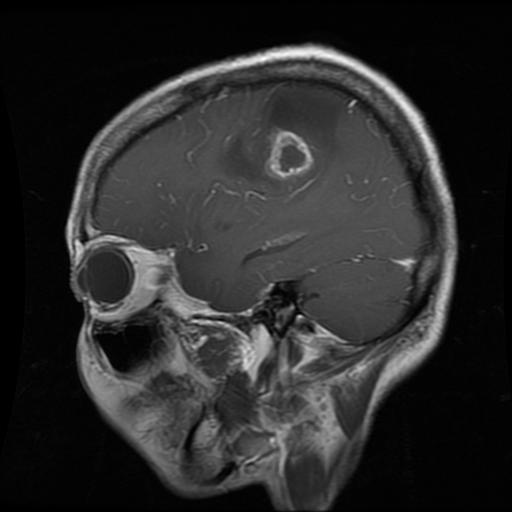Gliomia_tumour: (222, 87, 351, 184)
